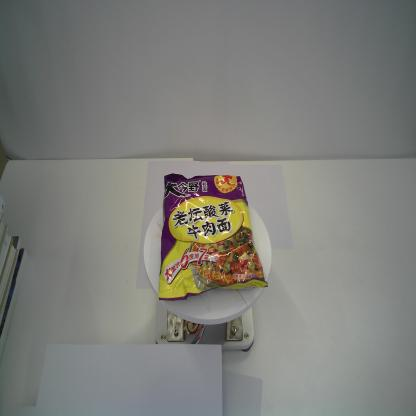Instant Noodles: (157, 172, 269, 302)
